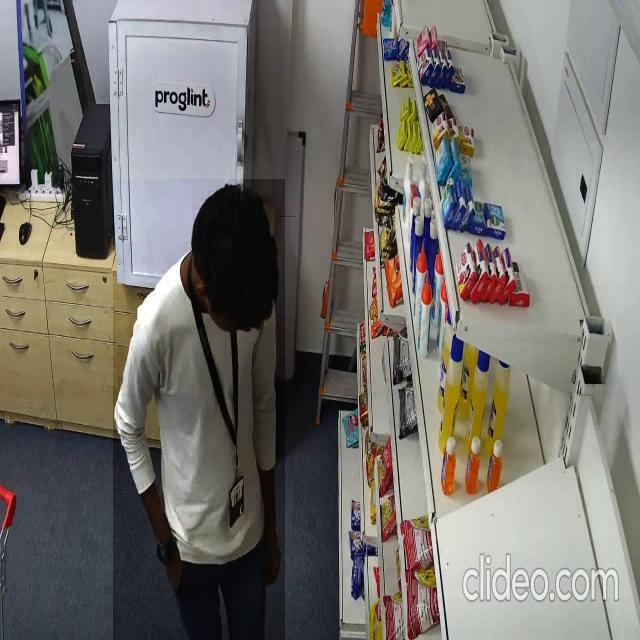Shoplifting: (113, 179, 285, 640)
